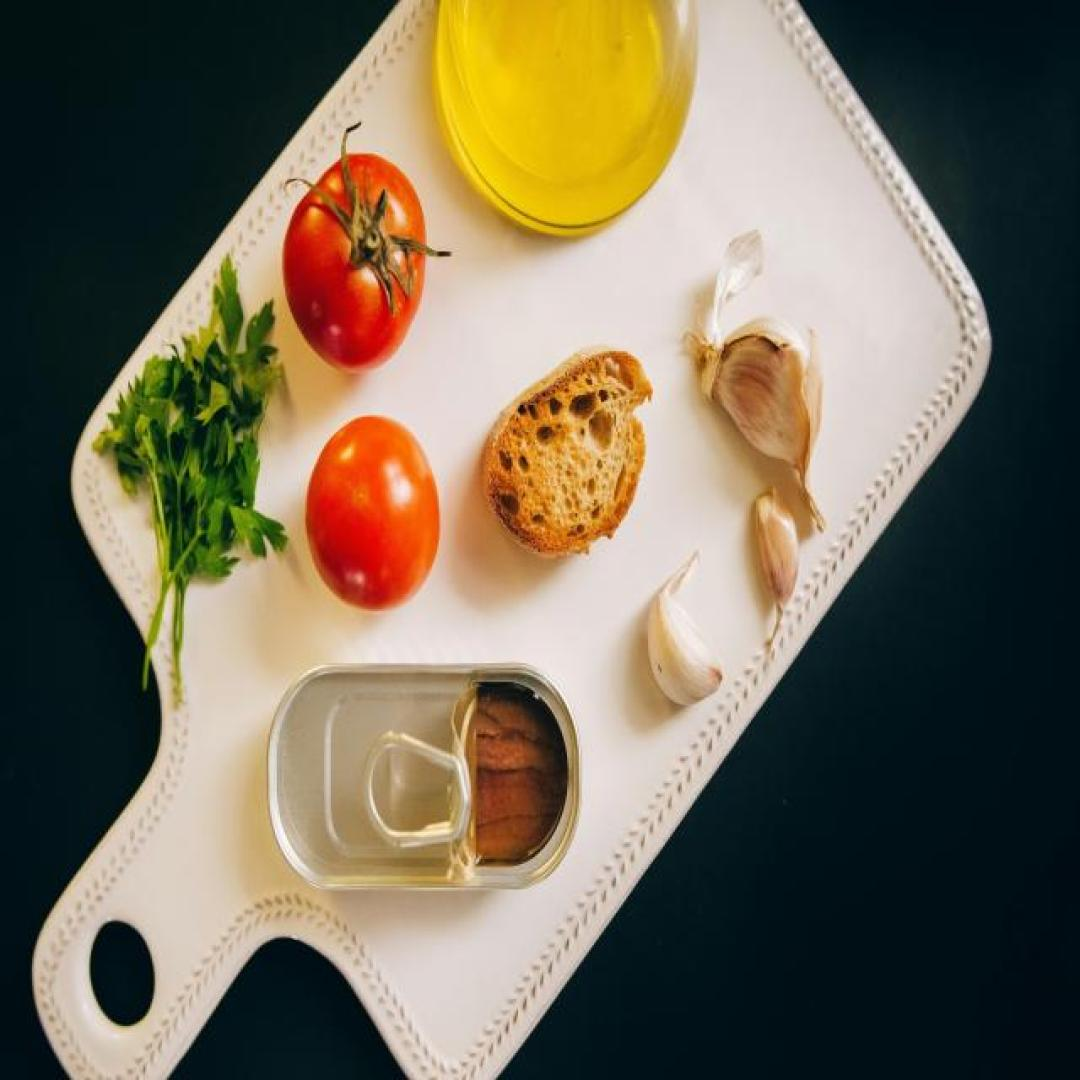matang: (283, 155, 427, 375), (306, 417, 440, 611)
